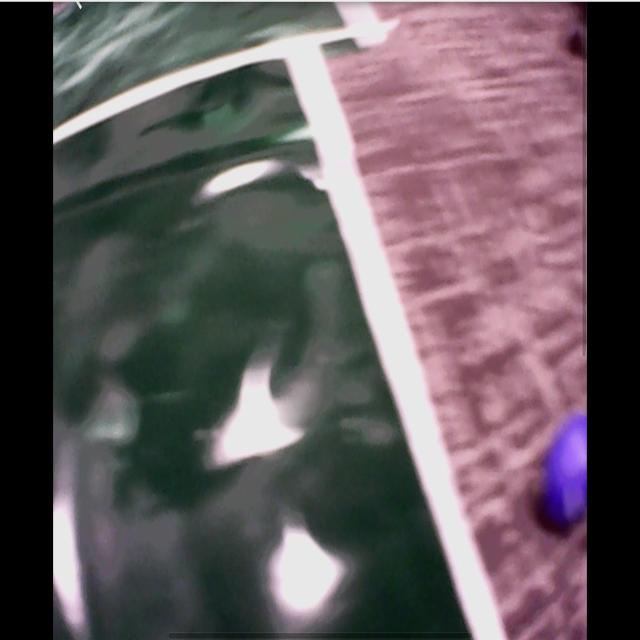ball: (544, 418, 589, 521)
